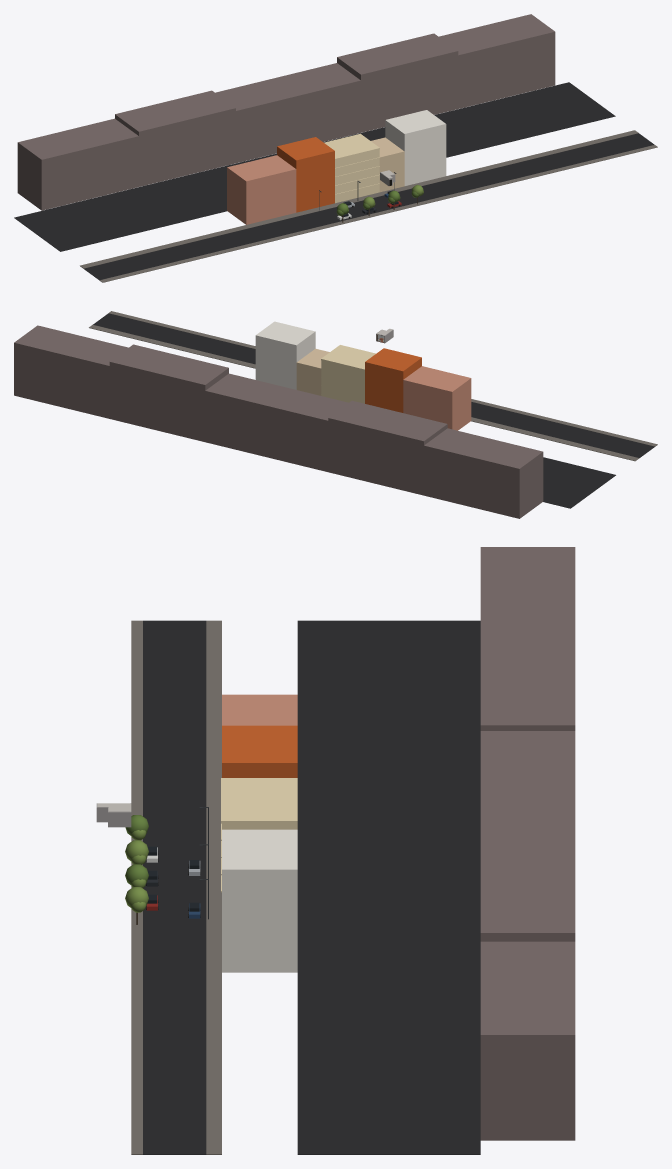
Rendered from room.glb.
The picture shows the model from 3 angles, top to bottom: view 1: azimuth 30°, elevation 25°; view 2: azimuth 150°, elevation 25°; view 3: azimuth 270°, elevation 25°; orthographic projection. The views are drawn at different scales.
Visible parts, largest first — view 1: Ground_Behind, Far_2, Far_0, Street_Road, Far_3, Far_1, Far_4, Opp_Pink, Opp_White, Opp_Orange, Street_Sidewalk_Far, Street_Sidewalk_Near (+3 smaller); view 2: Far_2, Far_0, Far_3, Far_1, Far_4, Street_Road, Opp_Pink, Opp_White, Opp_Orange, Ground_Behind, Street_Sidewalk_Far, Opp_Cream (+3 smaller); view 3: Ground_Behind, Street_Road, Far_4, Opp_White, Far_2, Far_3, Far_1, Street_Sidewalk_Far, Far_0, Street_Sidewalk_Near, Opp_Orange, Opp_Cream_ledge5 (+1 smaller).
Boxes of the visible parts, <box> form: Ground_Behind: <box>14,82,615,251</box>; Far_2: <box>215,63,360,163</box>; Far_0: <box>17,118,138,210</box>; Street_Road: <box>84,133,654,280</box>; Far_3: <box>337,33,458,132</box>; Far_1: <box>115,90,235,186</box>; Far_4: <box>439,14,555,108</box>; Opp_Pink: <box>227,155,296,224</box>; Opp_White: <box>385,110,446,185</box>; Opp_Orange: <box>277,137,334,212</box>; Street_Sidewalk_Far: <box>80,130,638,268</box>; Street_Sidewalk_Near: <box>100,145,657,282</box>; Far_2: <box>205,373,348,471</box>; Far_0: <box>424,428,543,518</box>; Far_3: <box>109,344,228,441</box>; Far_1: <box>328,400,447,495</box>; Far_4: <box>14,325,128,418</box>; Street_Road: <box>93,313,654,457</box>; Opp_Pink: <box>403,366,471,430</box>; Opp_White: <box>255,321,315,389</box>; Opp_Orange: <box>365,348,421,412</box>; Ground_Behind: <box>543,457,615,508</box>; Street_Sidewalk_Far: <box>89,324,639,461</box>; Opp_Cream: <box>321,360,364,403</box>; Ground_Behind: <box>297,620,480,1154</box>; Street_Road: <box>143,620,206,1154</box>; Far_4: <box>480,941,575,1140</box>; Opp_White: <box>222,829,297,972</box>; Far_2: <box>480,731,575,839</box>; Far_3: <box>480,839,575,941</box>; Far_1: <box>480,632,575,730</box>; Street_Sidewalk_Far: <box>206,620,221,1154</box>; Far_0: <box>480,547,575,631</box>; Street_Sidewalk_Near: <box>131,620,142,1154</box>; Opp_Orange: <box>222,725,297,777</box>; Opp_Cream_ledge5: <box>221,778,297,823</box>.
Size of the model in its own units: 200 by 20.15 by 75.87.
